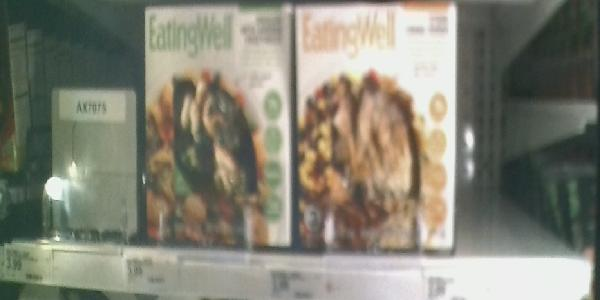pizza1: (295, 1, 457, 255), (142, 1, 294, 251)
